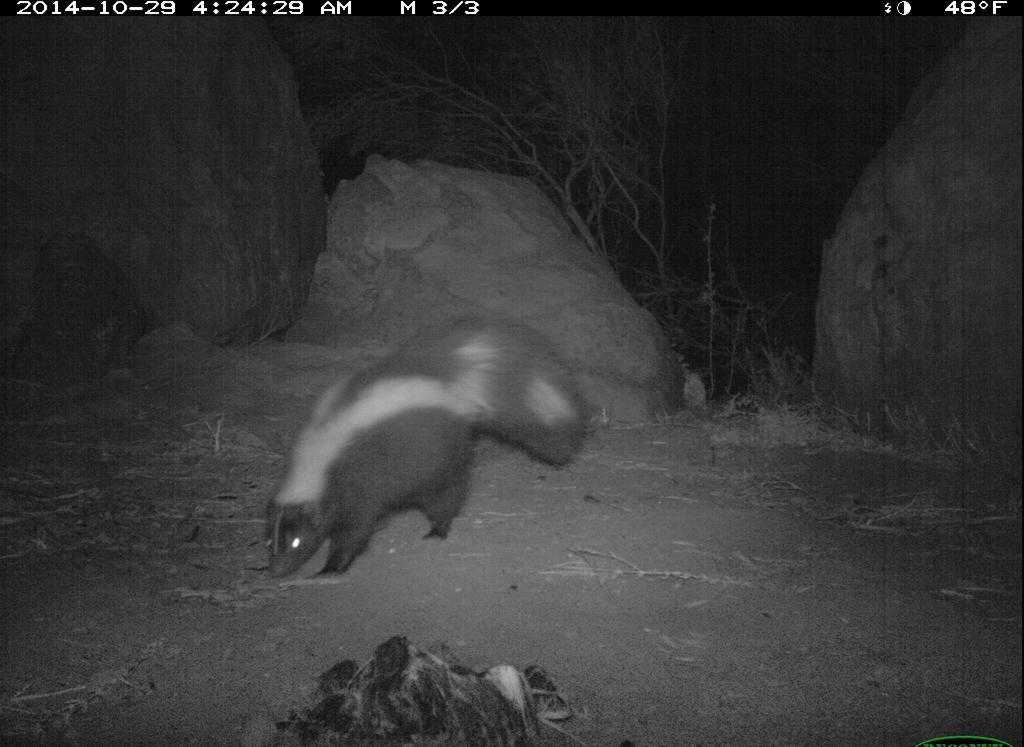skunk: (262, 309, 592, 578)
